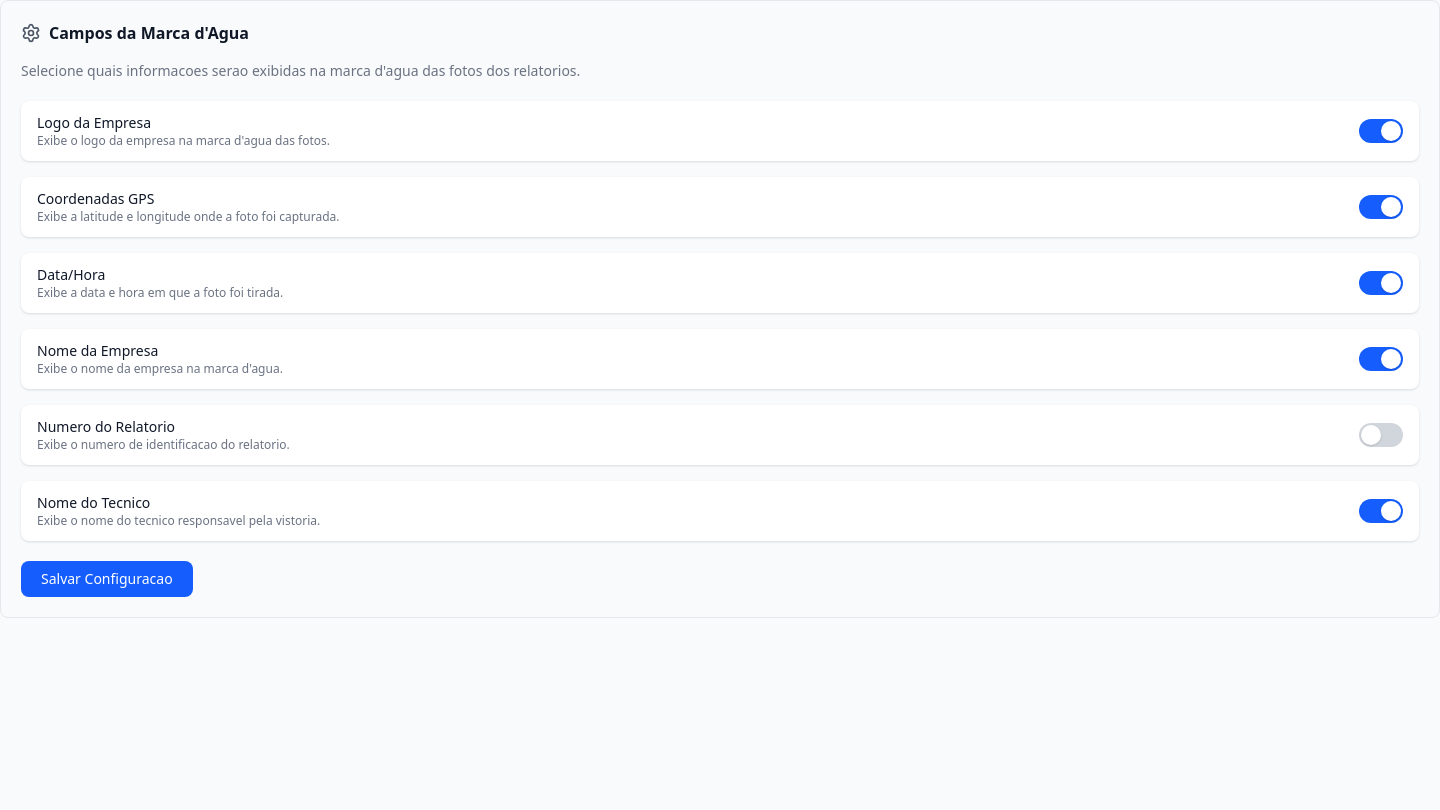
it: WatermarkConfigPanel › shows success message after save
This screenshot has width=1440, height=810.
Expected: the text "Configuracao salva com sucesso!" is not shown
Note: Click save
Click the button "Salvar Configuracao".
click(107, 579)  # box [21,561,193,597]
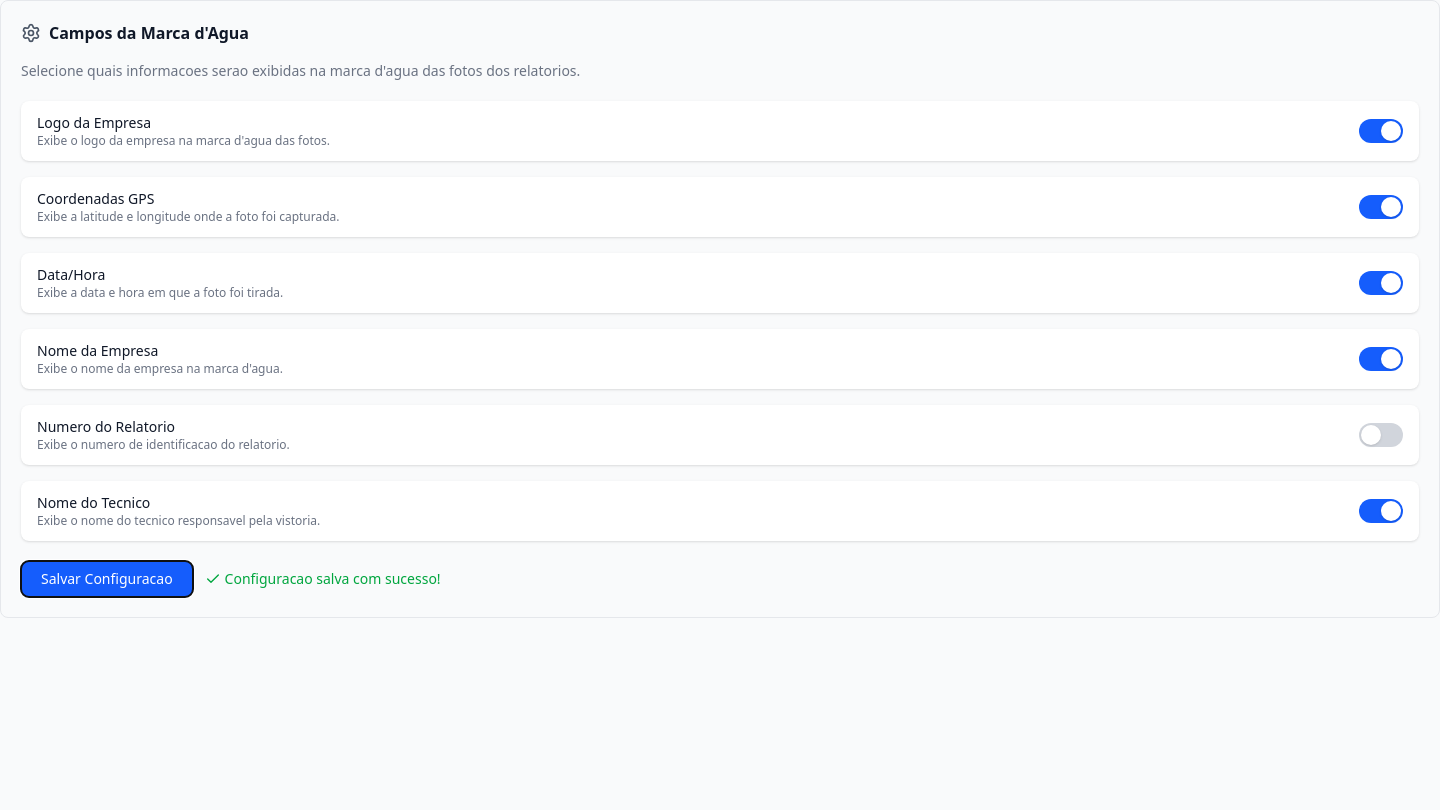
Result: the text "Configuracao salva com sucesso!" is shown at [205,569,441,589]
